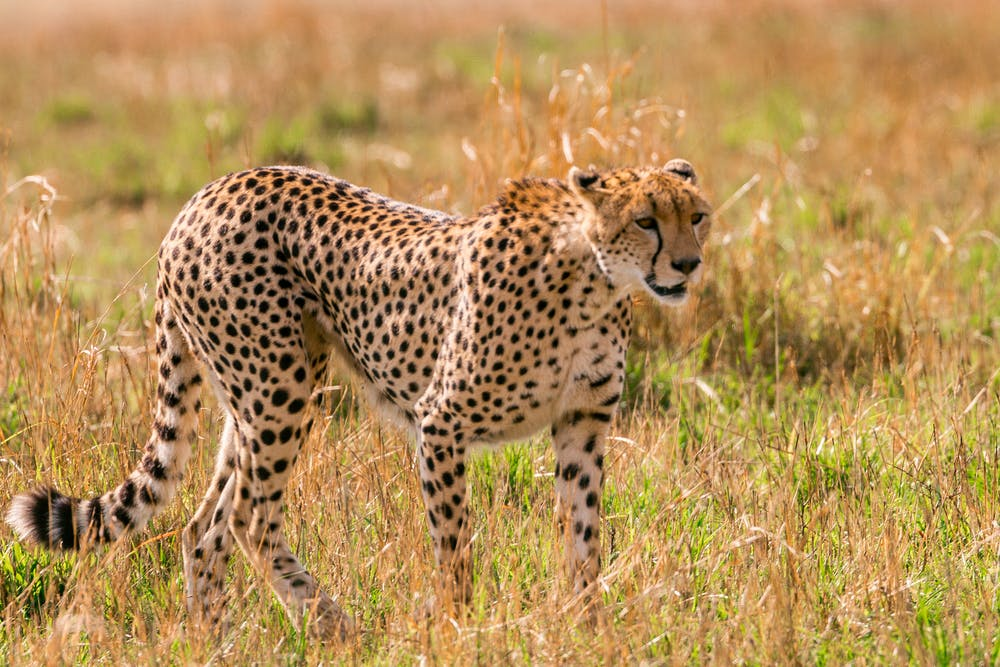cheetah: (563, 151, 735, 322)
